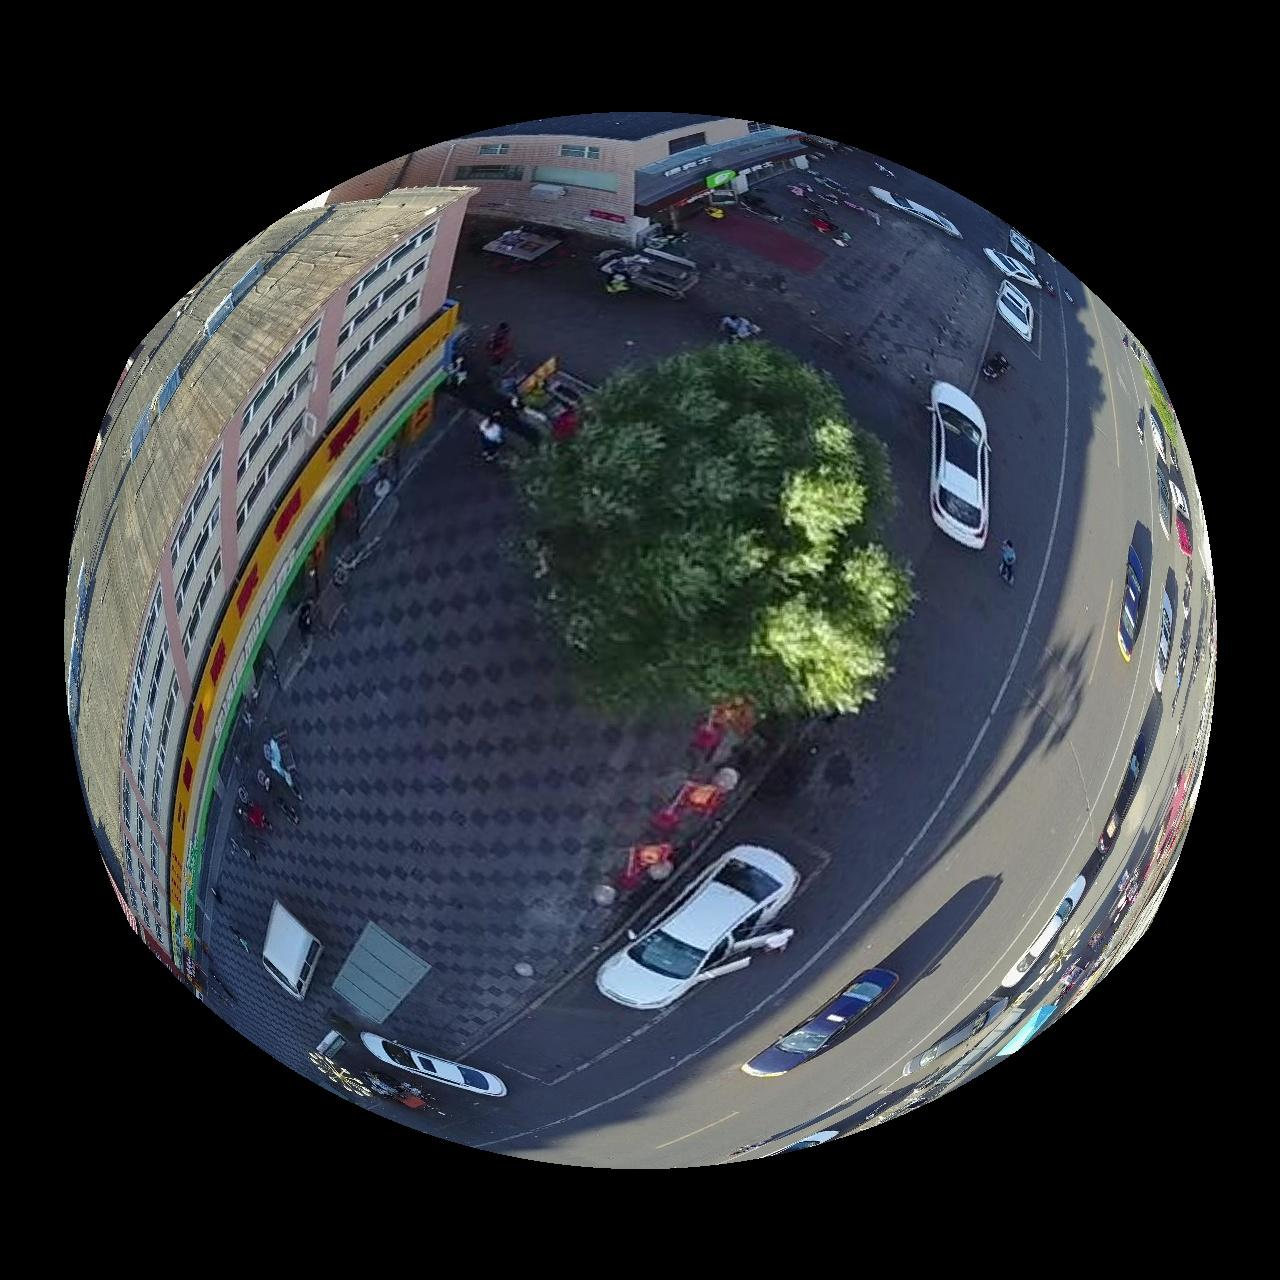building: (64, 188, 472, 979), (327, 111, 811, 245)
cars: (595, 846, 801, 1012), (743, 969, 901, 1077), (932, 380, 990, 549), (361, 1034, 508, 1099), (1005, 876, 1088, 989), (904, 1000, 1010, 1078), (261, 903, 322, 1001), (870, 186, 965, 237), (1121, 545, 1146, 660), (985, 247, 1044, 287), (998, 279, 1035, 341)
trees: (520, 341, 914, 716)
